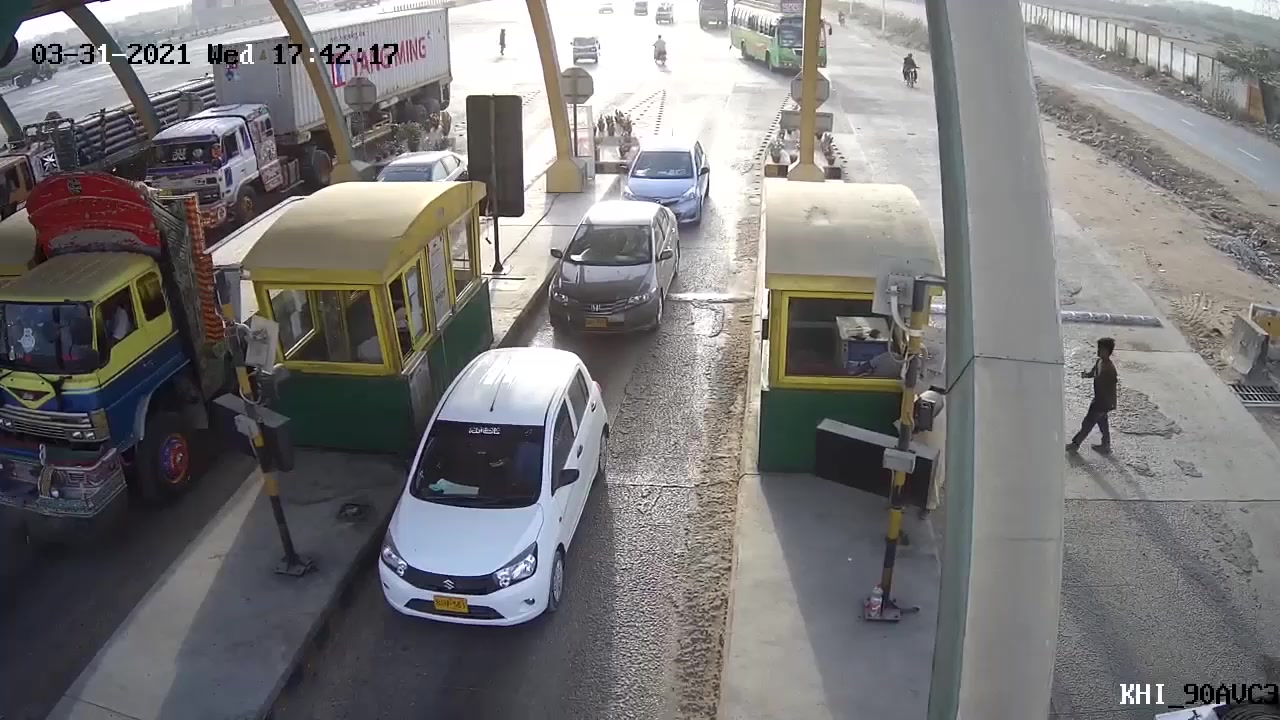F1: (373, 346, 611, 635), (539, 196, 688, 345), (622, 136, 712, 228)
